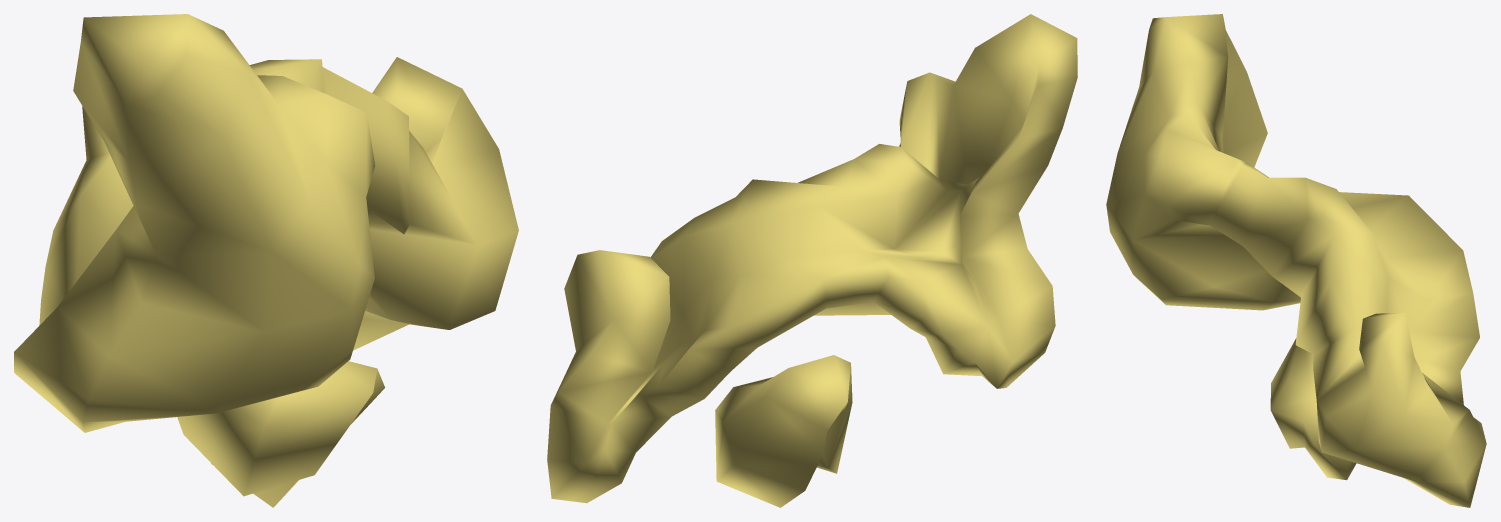
Rendered from lunate-sulcus-r.glb.
3 renders of one model, left to right at view 1: azimuth 30°, elevation 25°; view 2: azimuth 150°, elevation 25°; view 3: azimuth 270°, elevation 25°, orthographic. The views are drawn at different scales.
Parts seen in each view (by area): view 1: Lunate sulcus.r; view 2: Lunate sulcus.r; view 3: Lunate sulcus.r.
Part boxes in pixels (<box>): Lunate sulcus.r: <box>14,14,518,507</box>; Lunate sulcus.r: <box>547,14,1077,507</box>; Lunate sulcus.r: <box>1106,14,1486,507</box>.
Size of the model in its own units: 0.0217 by 0.0241 by 0.021.
